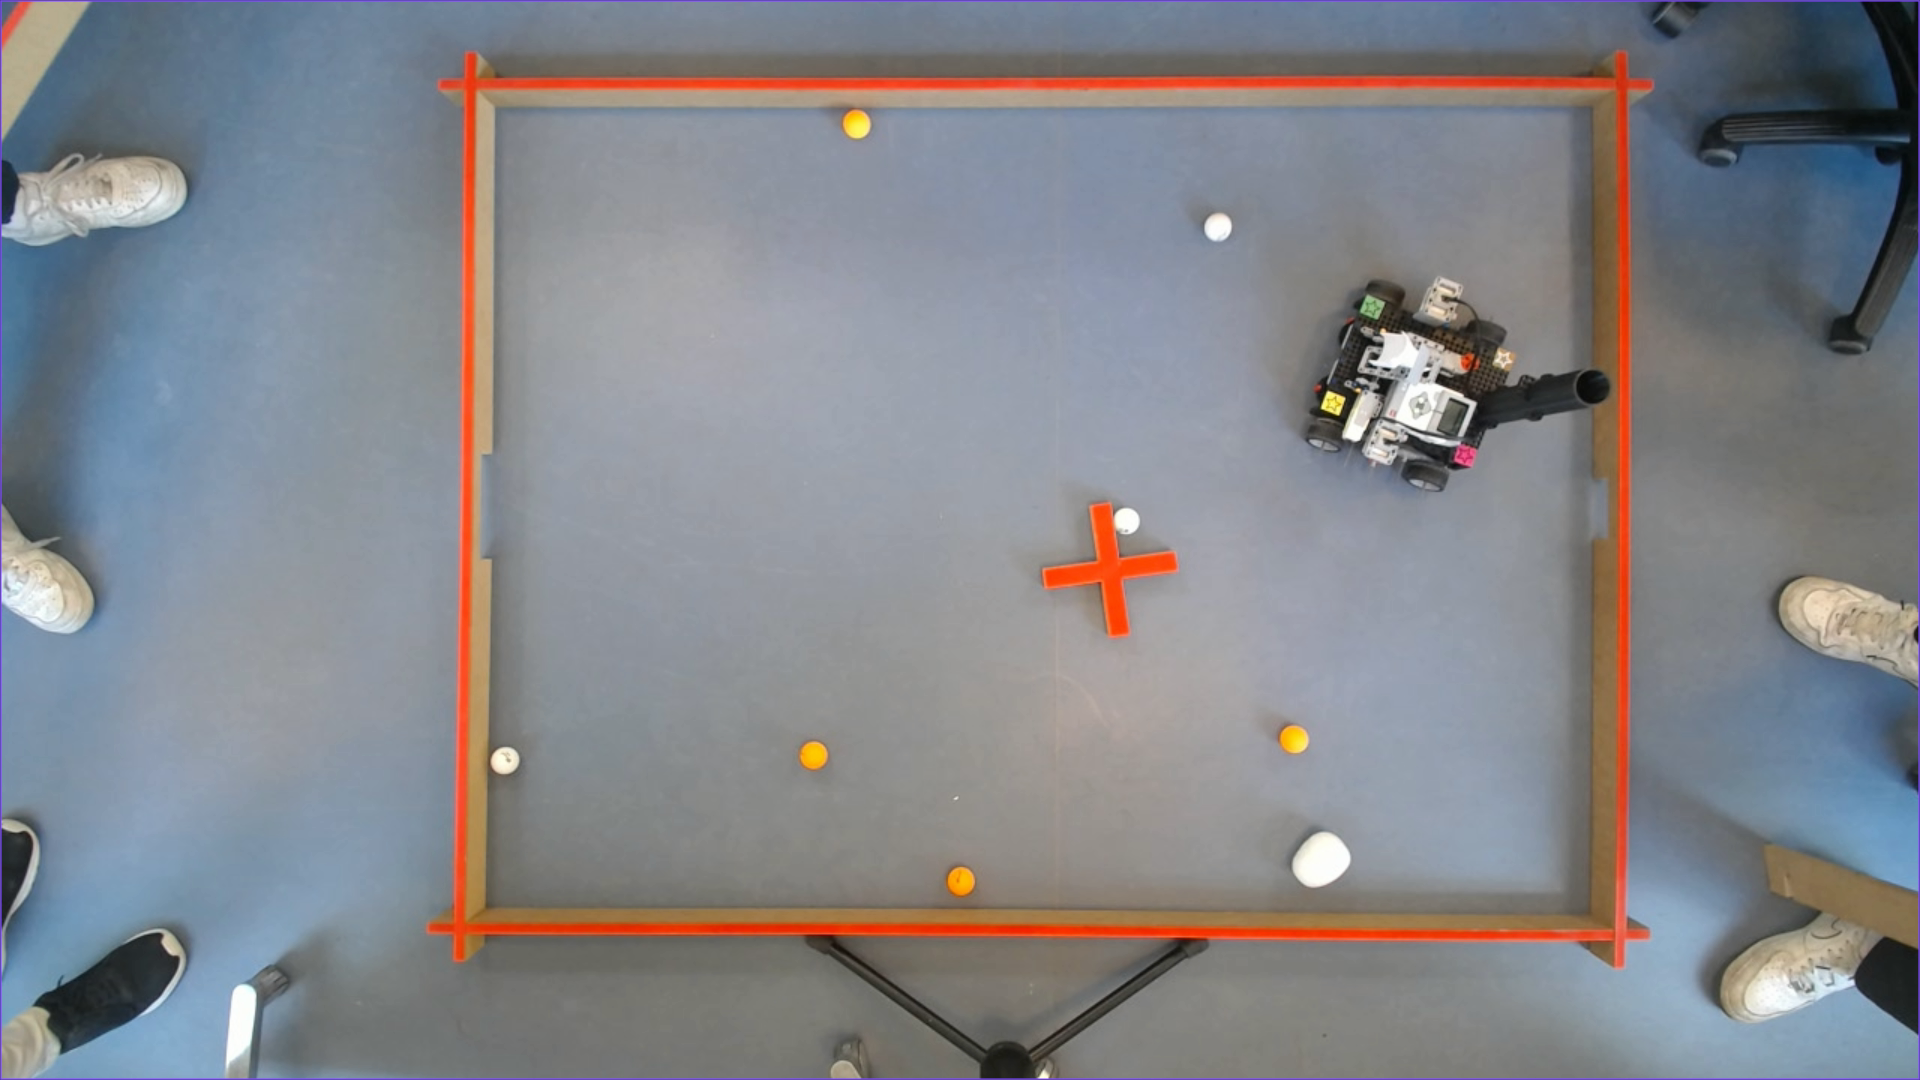ball_orange: (1278, 721, 1308, 758), (798, 740, 829, 774), (841, 105, 872, 141), (945, 866, 977, 897)
ball_white: (488, 744, 524, 775), (1112, 505, 1143, 539), (1203, 210, 1232, 247)
corner_brown: (1494, 344, 1516, 371)
corner_green: (1360, 291, 1389, 320)
corner_pink: (1455, 440, 1476, 469)
corner_yellow: (1317, 390, 1346, 415)
cross: (1039, 502, 1182, 641)
egg: (1292, 829, 1353, 886)
playfield: (455, 79, 1627, 943)
